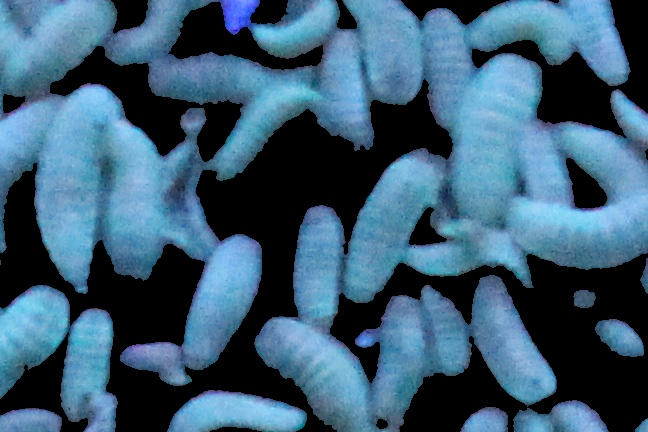larvae: (508, 120, 648, 281), (445, 62, 545, 223), (345, 152, 447, 307), (40, 90, 114, 299), (251, 314, 381, 432), (1, 91, 67, 277), (176, 240, 267, 373), (1, 1, 126, 88), (141, 56, 321, 113), (474, 274, 557, 397), (216, 81, 317, 181), (414, 4, 486, 135), (110, 119, 162, 290), (375, 295, 433, 432), (312, 33, 376, 157), (348, 1, 421, 109), (1, 290, 65, 413), (161, 384, 313, 432), (473, 2, 576, 66), (507, 112, 578, 203), (418, 281, 477, 384), (295, 204, 340, 331), (71, 304, 116, 426), (566, 1, 631, 85), (400, 229, 502, 281), (247, 1, 341, 55), (104, 1, 183, 64)
